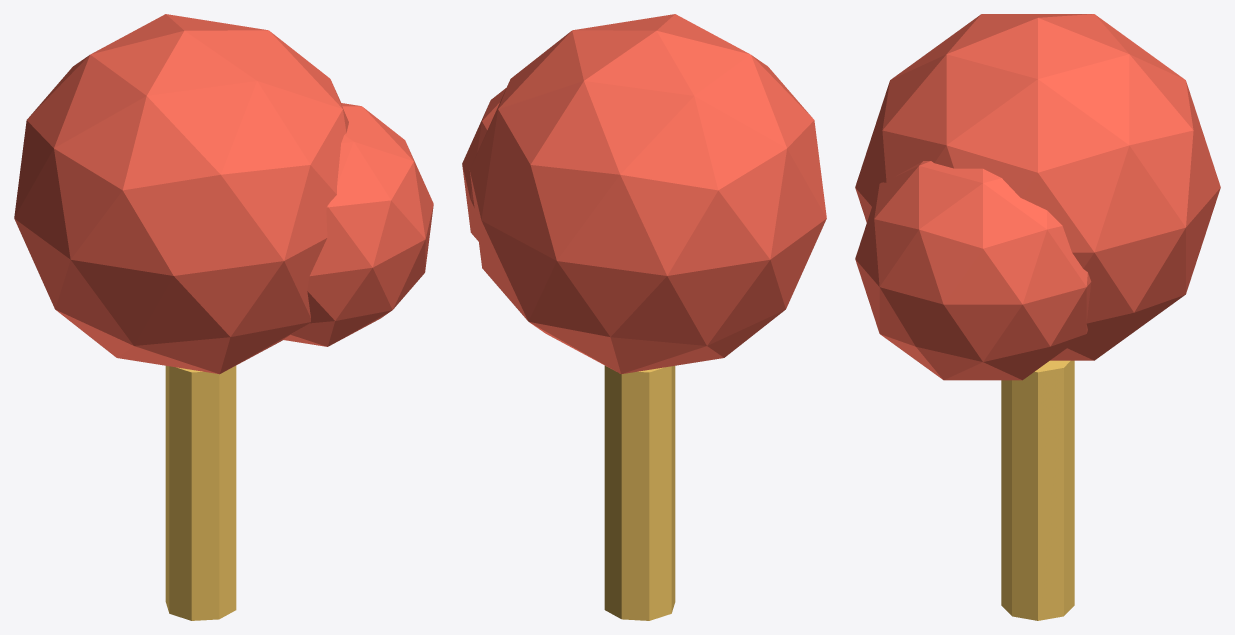
The model's file is scenery1.glb.
3 renders of one model, left to right at view 1: azimuth 30°, elevation 25°; view 2: azimuth 150°, elevation 25°; view 3: azimuth 270°, elevation 25°, orthographic.
Visible parts, largest first — view 1: canopy_mesh, root_mesh; view 2: canopy_mesh, root_mesh; view 3: canopy_mesh, root_mesh.
Boxes of the visible parts, left/top/right/bottom form: canopy_mesh: left=14, top=14, right=433, bottom=374; root_mesh: left=165, top=366, right=236, bottom=620; canopy_mesh: left=462, top=14, right=826, bottom=374; root_mesh: left=604, top=365, right=675, bottom=620; canopy_mesh: left=855, top=14, right=1220, bottom=380; root_mesh: left=1001, top=360, right=1074, bottom=620.
Bounding box in the file's own units: 2.17 × 3.5 × 2.
